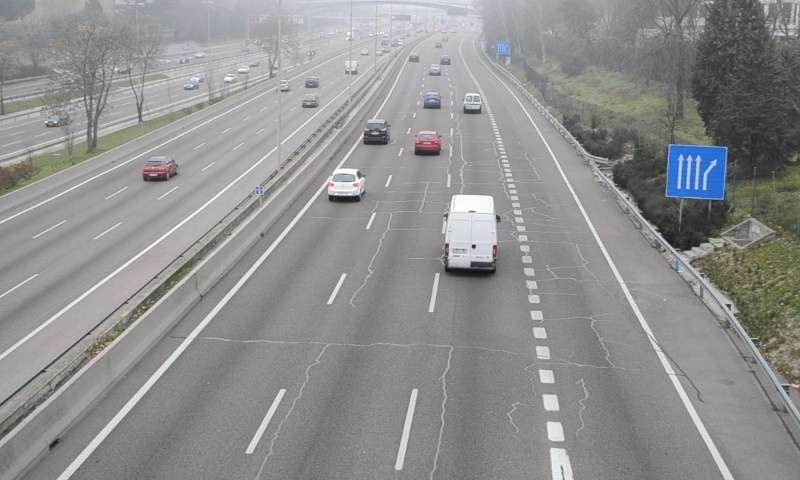car: (326, 168, 366, 197), (362, 118, 390, 146), (414, 130, 442, 156), (422, 91, 442, 110)
van: (443, 195, 498, 272), (462, 92, 483, 115)
